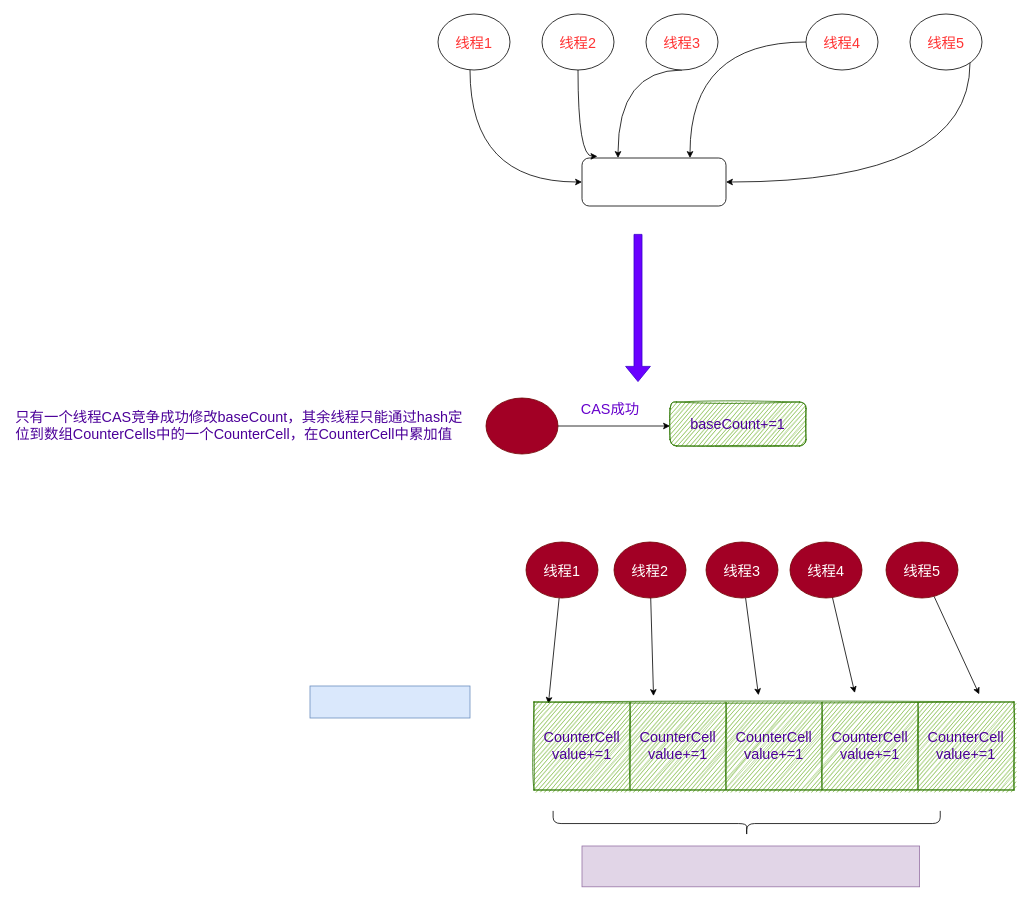
This 1030x901 diagram has some shape labels left out. The shapes that lost their labels are listed below. From the top down, each one's centre as x and y in pixels, then its label:
At pixel 653 181: "count".
At pixel 521 425: "线程6".
At pixel 389 701: "CounterCells".
At pixel 750 866: "size=sum( CounterCell ) + baseCount".
